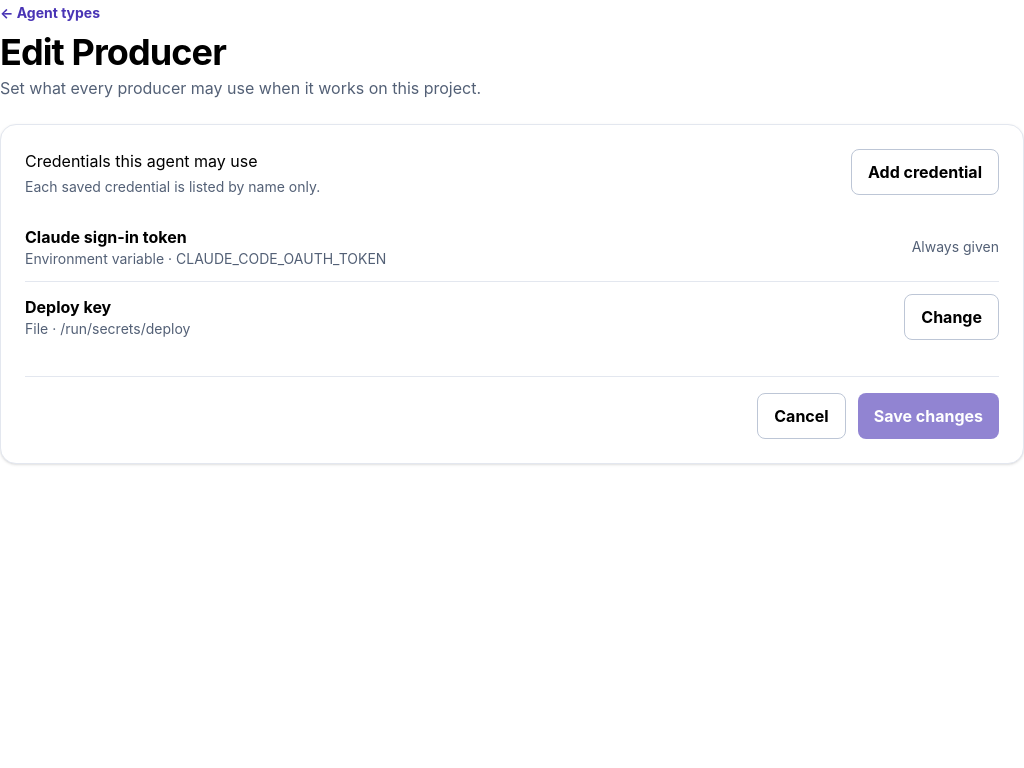
Test case: closes the dialog on Escape, Cancel or close, returning focus
The image size is (1024, 768).
Click the button with aria-label "Change Deploy key": (952, 317) [904,294,999,340]
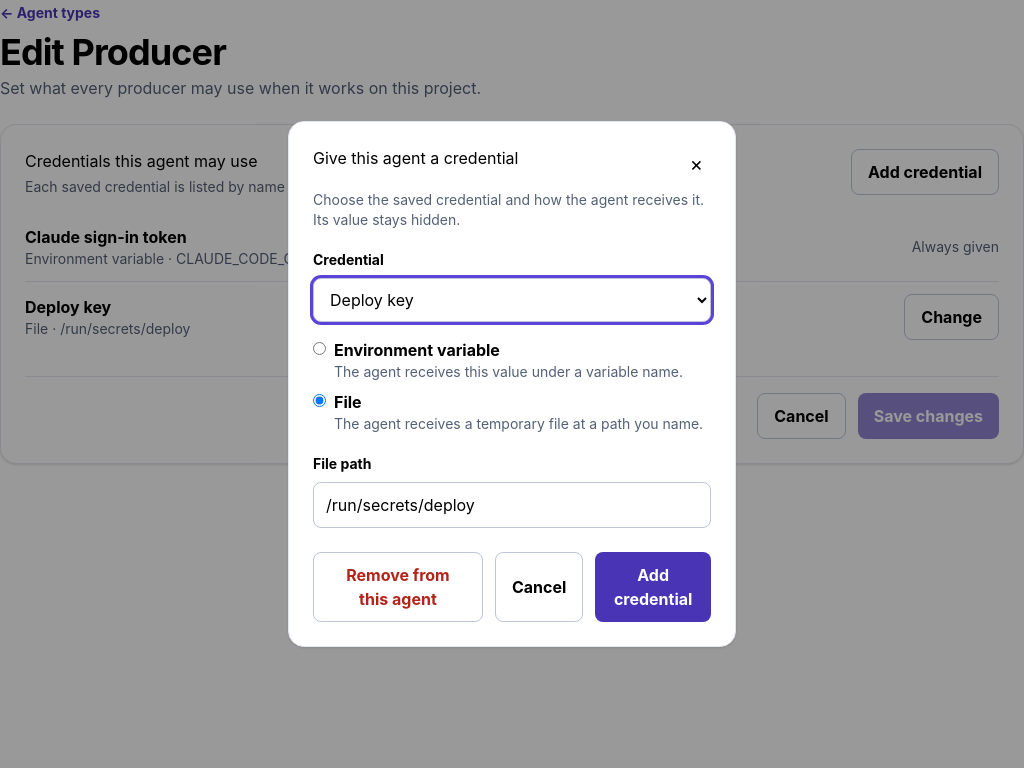
Now the dialog "Give this agent a credential" is shown
Press Escape
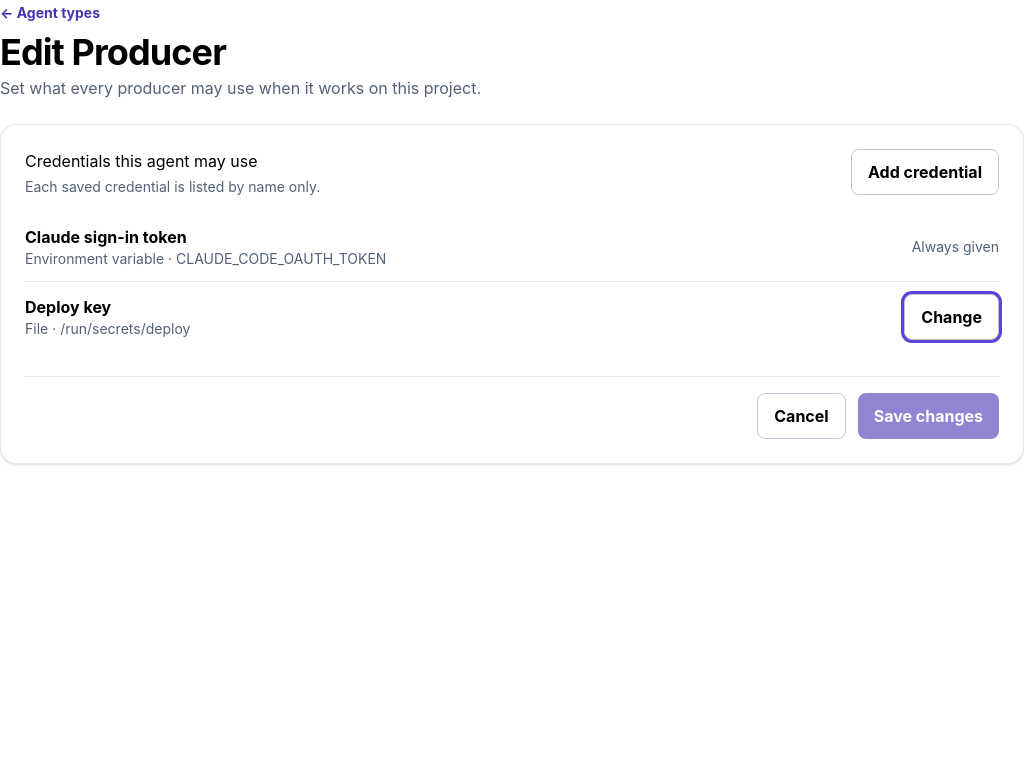
Now the dialog is gone
Click the button with aria-label "Change Deploy key": (952, 317) [904,294,999,340]
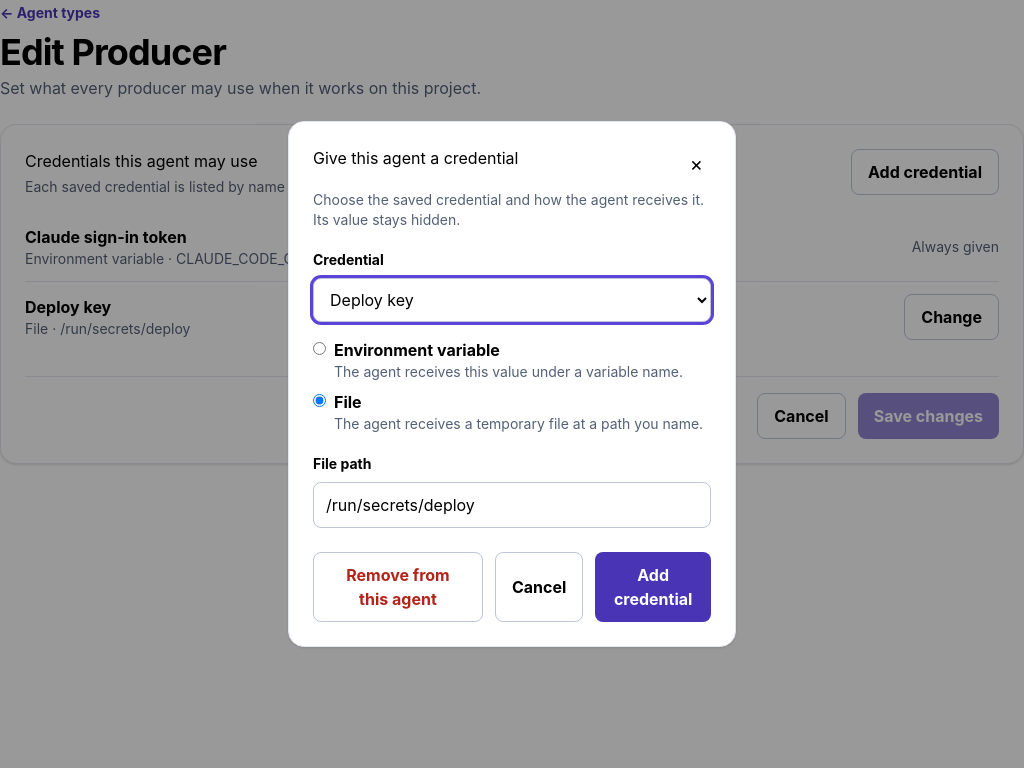
Now the dialog "Give this agent a credential" is shown
Click the button "Cancel": (539, 587) [495,552,583,622]
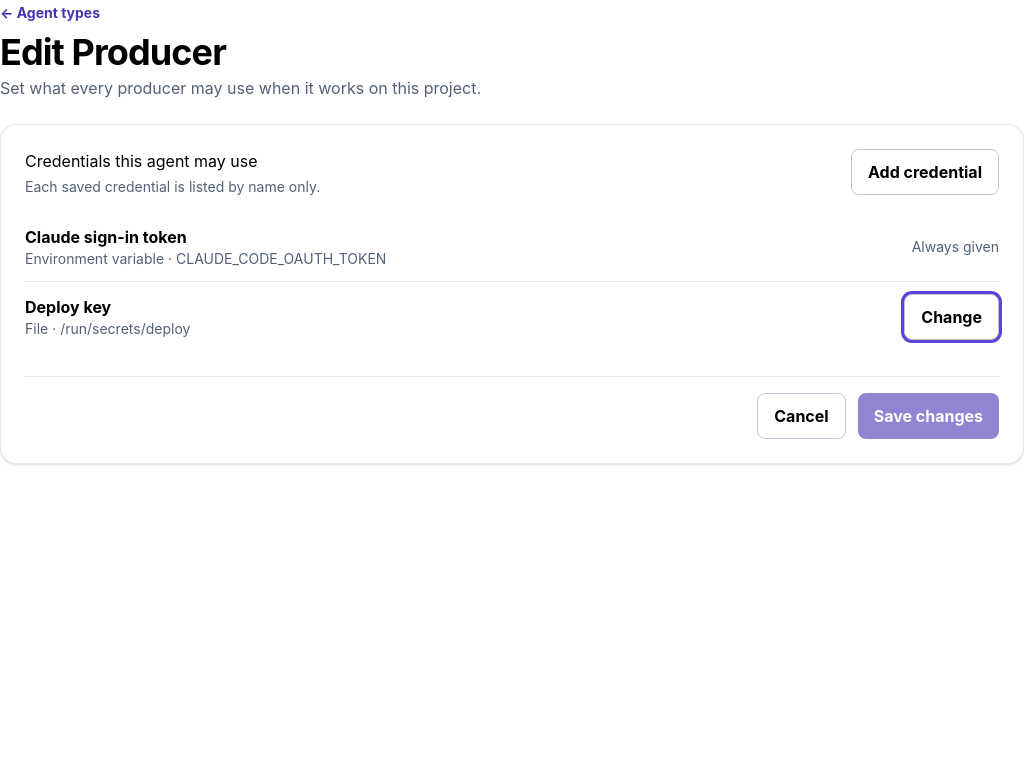
Now the dialog is gone
Click the button with aria-label "Change Deploy key": (952, 317) [904,294,999,340]
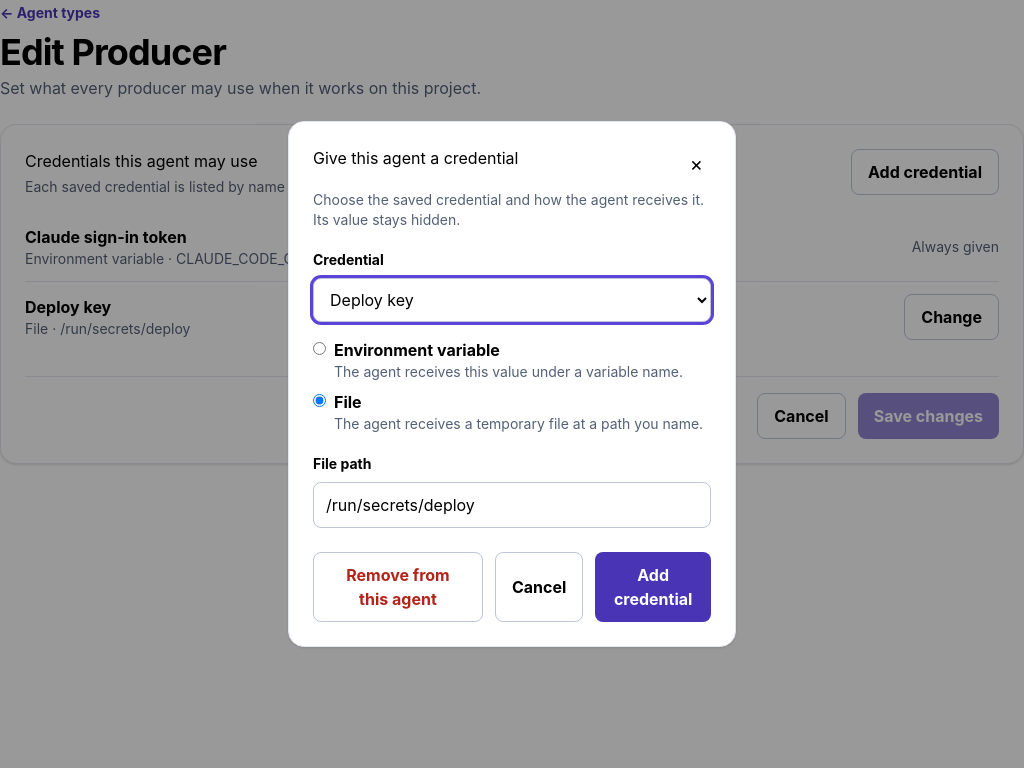
Now the dialog "Give this agent a credential" is shown
Click the button named "Close": (696, 164) [682,146,711,182]
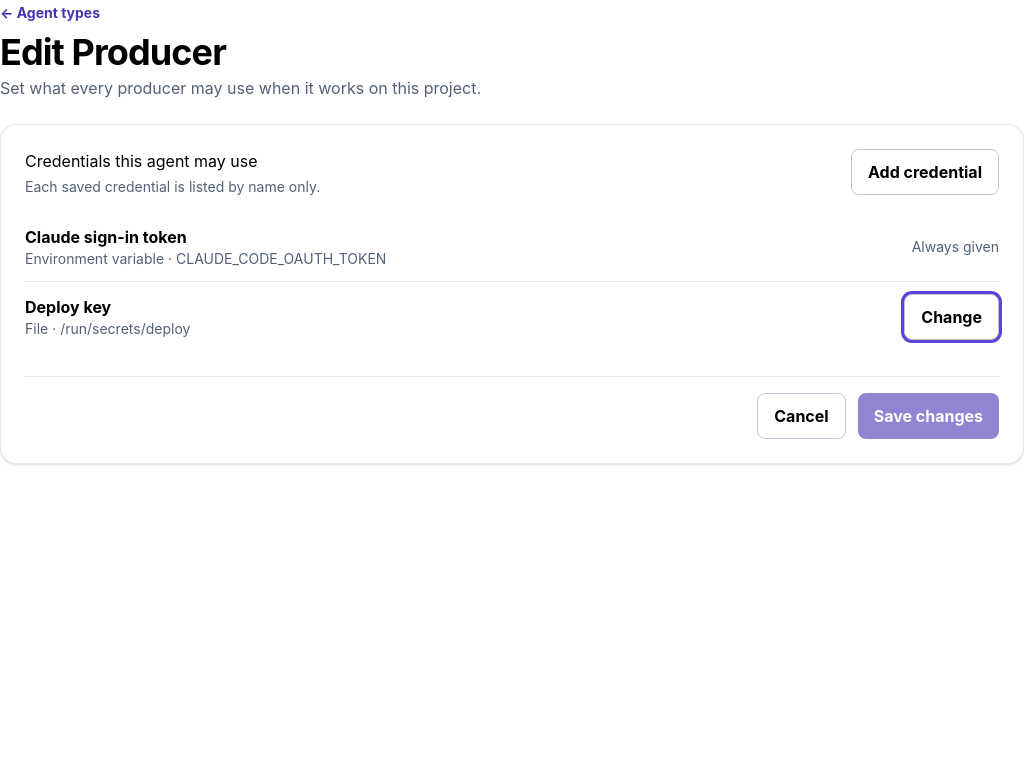
Expected: the button "Save changes" is disabled, [858,393,999,439]
Now the dialog is gone
